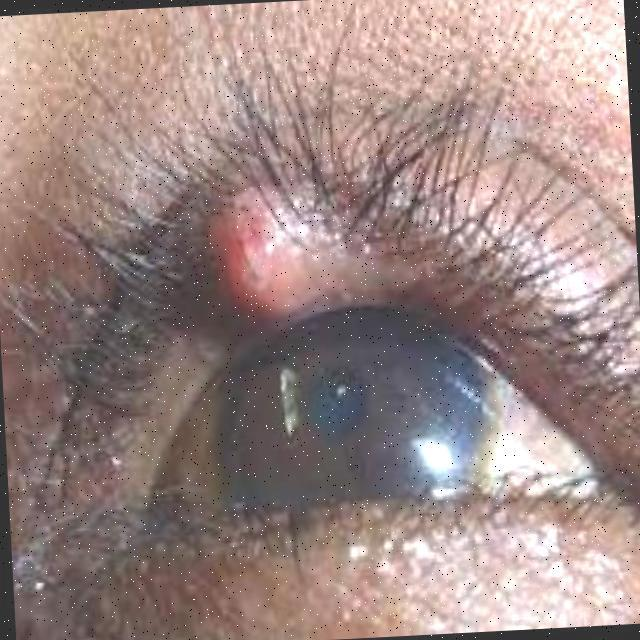Stye: (182, 174, 420, 386)
